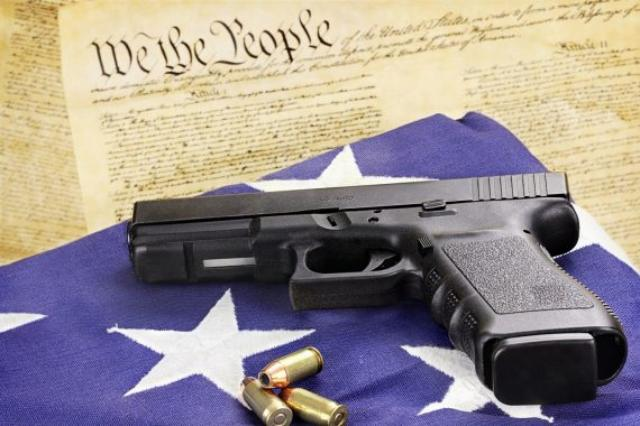handgun: (119, 166, 633, 410)
